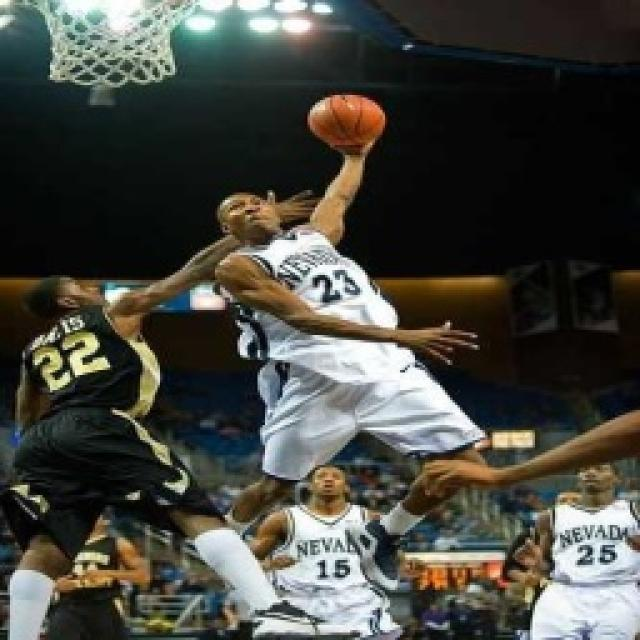basketball: (301, 86, 394, 154)
